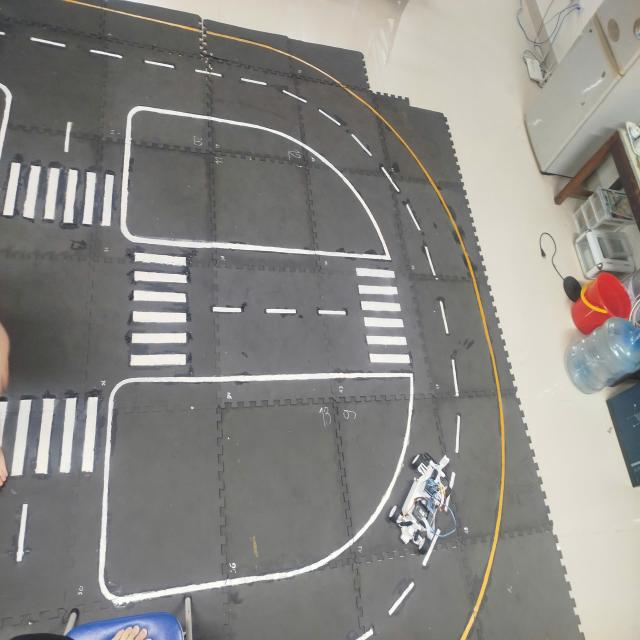SiCo-CAR: (388, 451, 456, 554)
